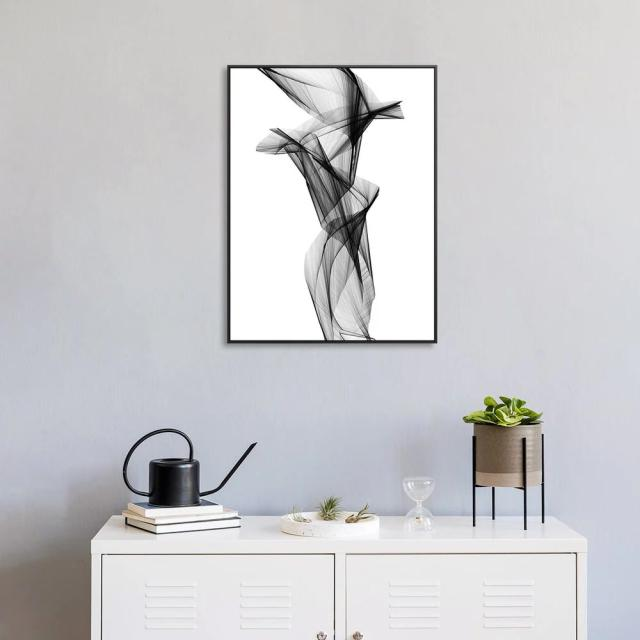painting: (226, 64, 439, 343)
